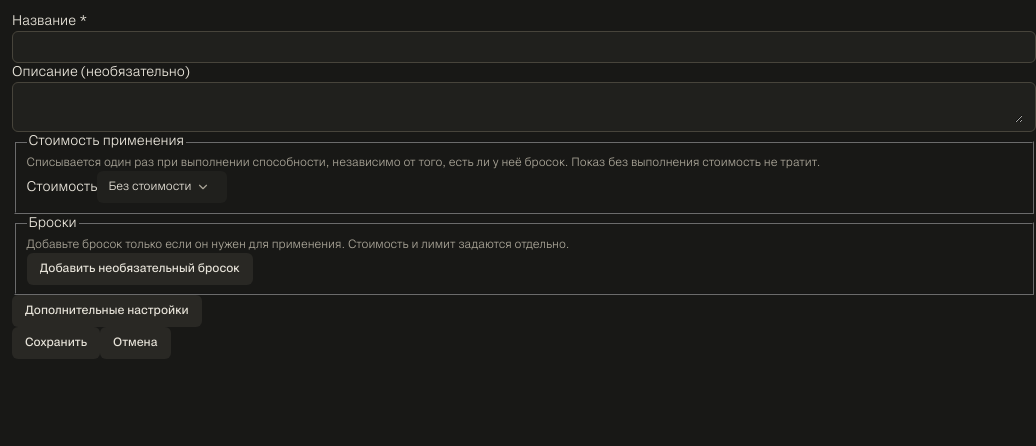
Scenario: maps safe server field errors and keeps the submitted draft
The image size is (1036, 446).
Type "Искра" into the field labelled "Название *".
click(524, 47); type("Искра")  # box [21, 32, 1027, 62]
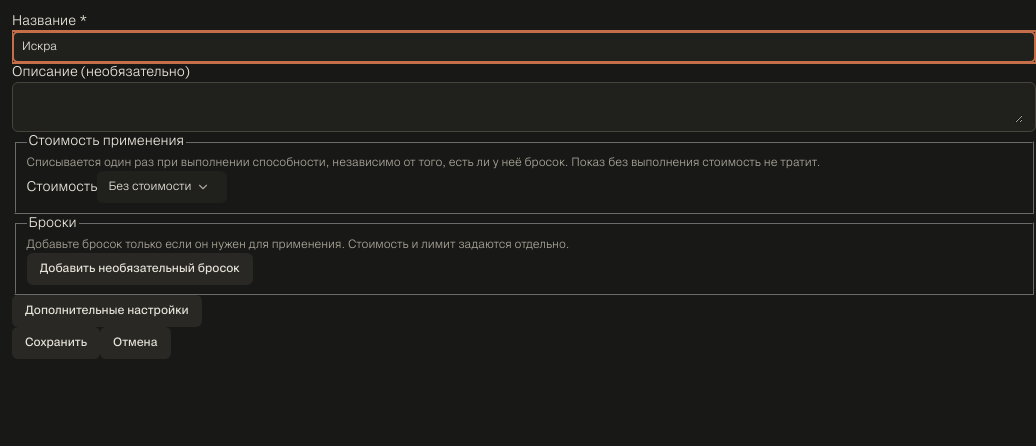
Click the dropdown named "Стоимость".
click(162, 187)  # box [97, 171, 226, 203]
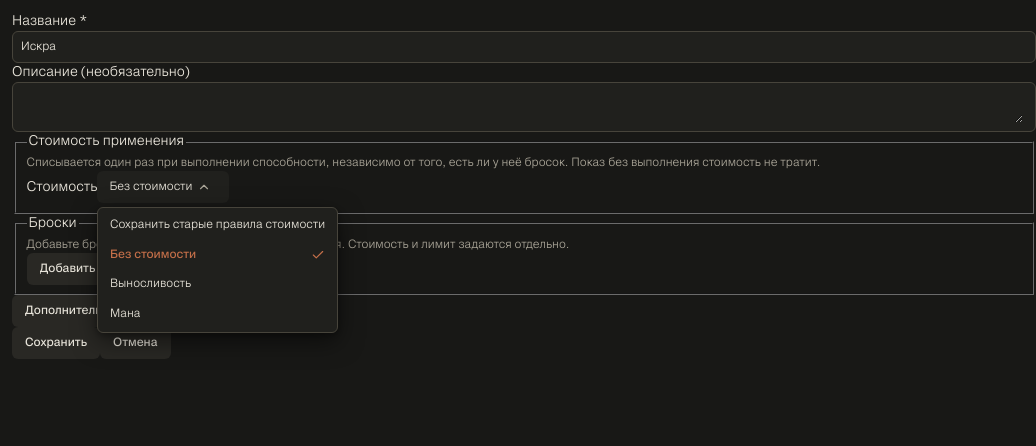
Click the option "Мана".
click(125, 314)  # box [110, 309, 140, 319]
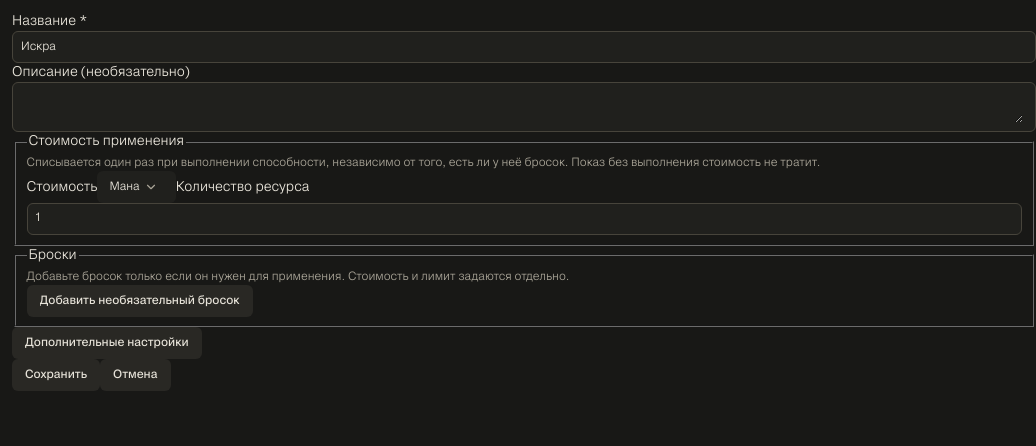
Click the button "Сохранить".
click(56, 375)  # box [12, 359, 100, 391]
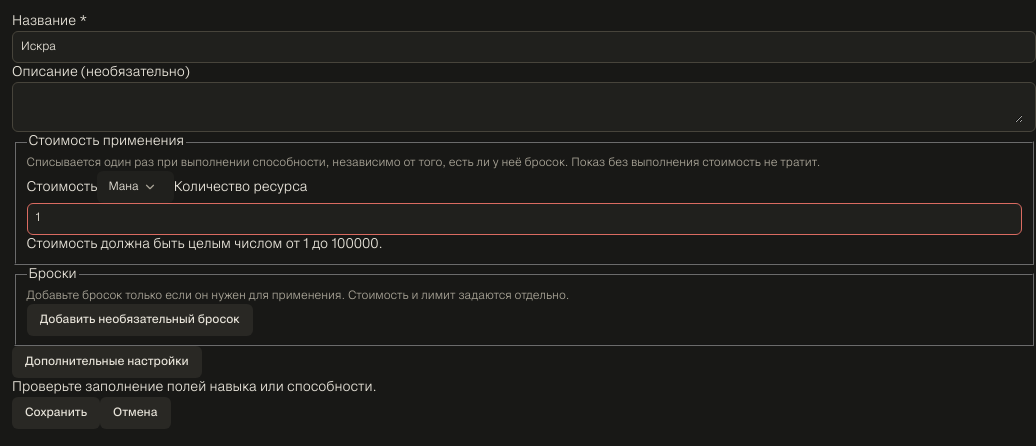
Expected: the number field labelled "Количество ресурса" holds "1", [36, 204, 1012, 234]
Expected: the text "Стоимость должна быть целым числом от 1 до 100000." is shown, [26, 238, 383, 251]
